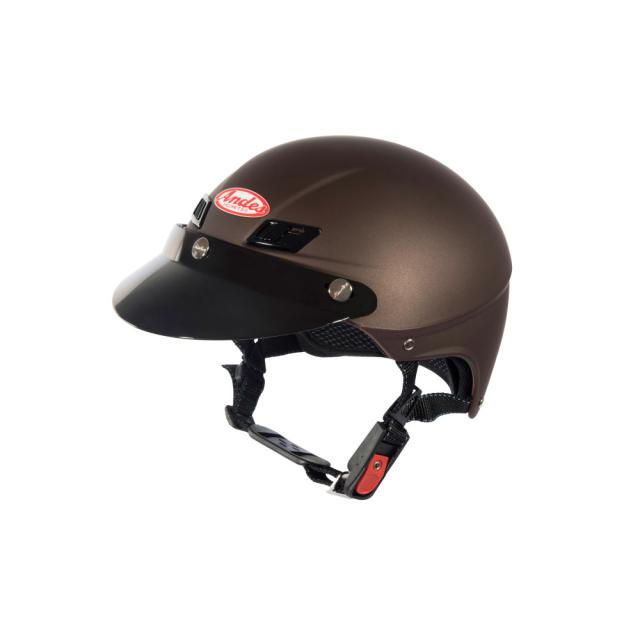Helmet: (109, 130, 518, 502)
